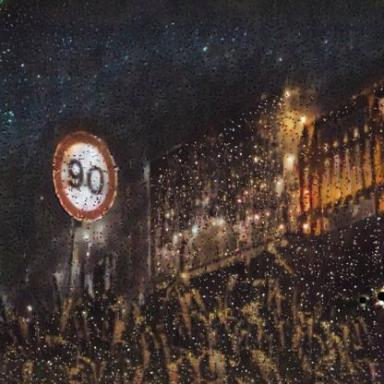Speed_limit_90: (57, 135, 117, 219)
